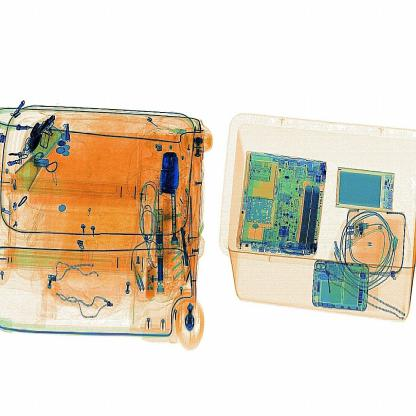scissors: (156, 140, 184, 198)
